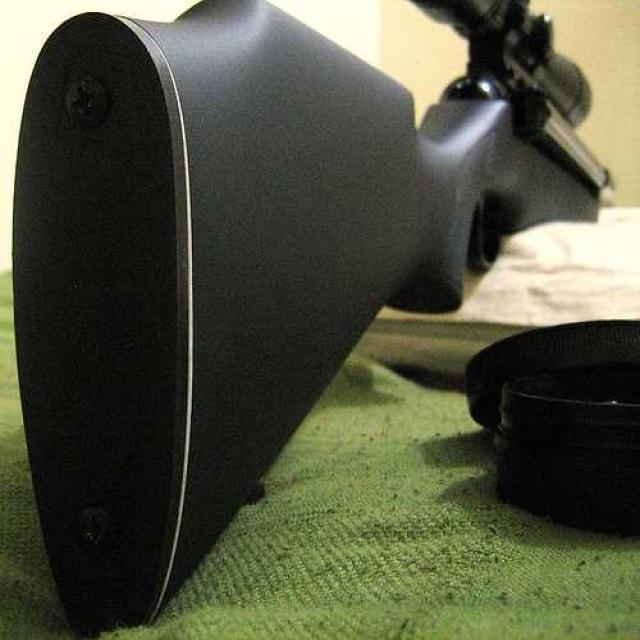heavyweapon: (1, 1, 615, 640)
